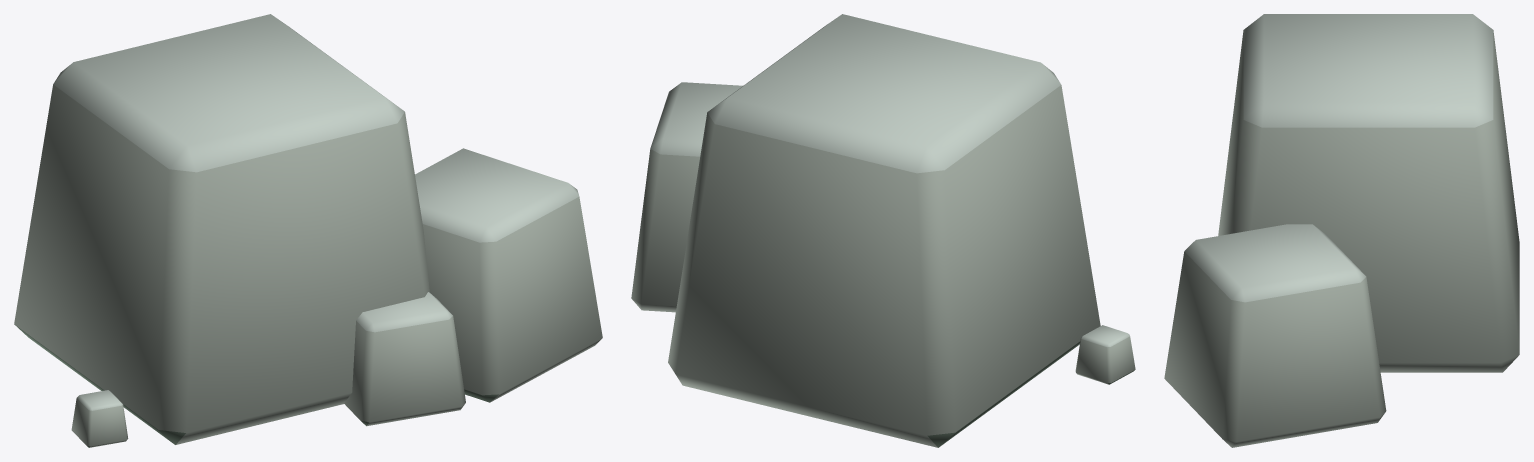
File: formedRock-07_col.fbx
3 renders of one model, left to right at view 1: azimuth 30°, elevation 25°; view 2: azimuth 150°, elevation 25°; view 3: azimuth 270°, elevation 25°, orthographic. The views are drawn at different scales.
Visible parts, largest first — view 1: formedRock-07.col; view 2: formedRock-07.col; view 3: formedRock-07.col.
Boxes of the visible parts, x1,y1,x2,y2 form: formedRock-07.col: (14, 14, 602, 447); formedRock-07.col: (631, 14, 1135, 447); formedRock-07.col: (1164, 14, 1519, 447).
Size of the model in its own units: 0.2894 by 0.1595 by 0.1958.
Materials: 1 (1 with a texture image).
